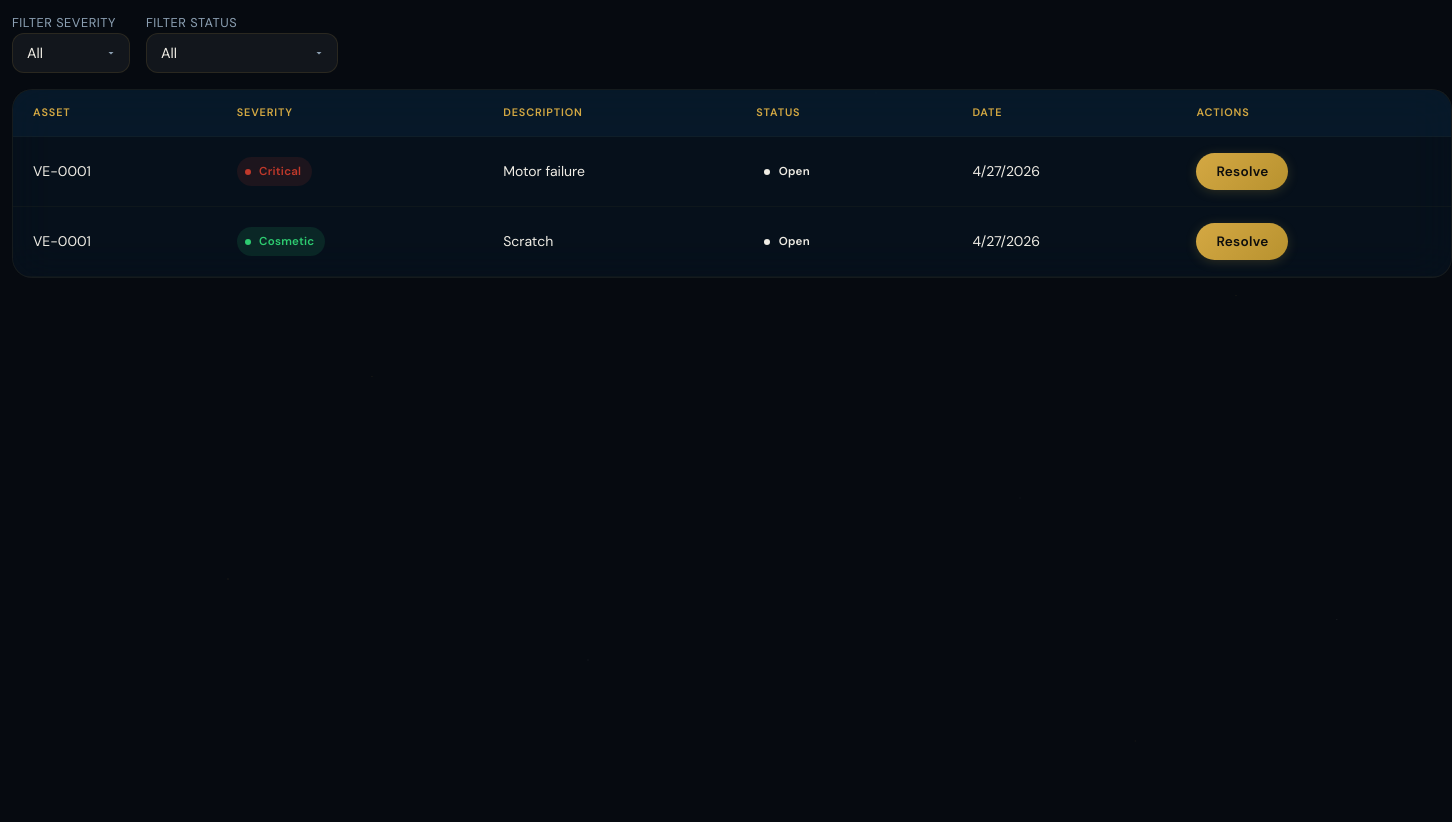
Scenario: IncidentQueue › filters by severity
Expected: the text "Scratch" is shown, x1=483 y1=207 x2=736 y2=277
Select "Critical" in the dropdown labelled "Filter Severity" at point(71, 53), box x1=12 y1=33 x2=130 y2=73
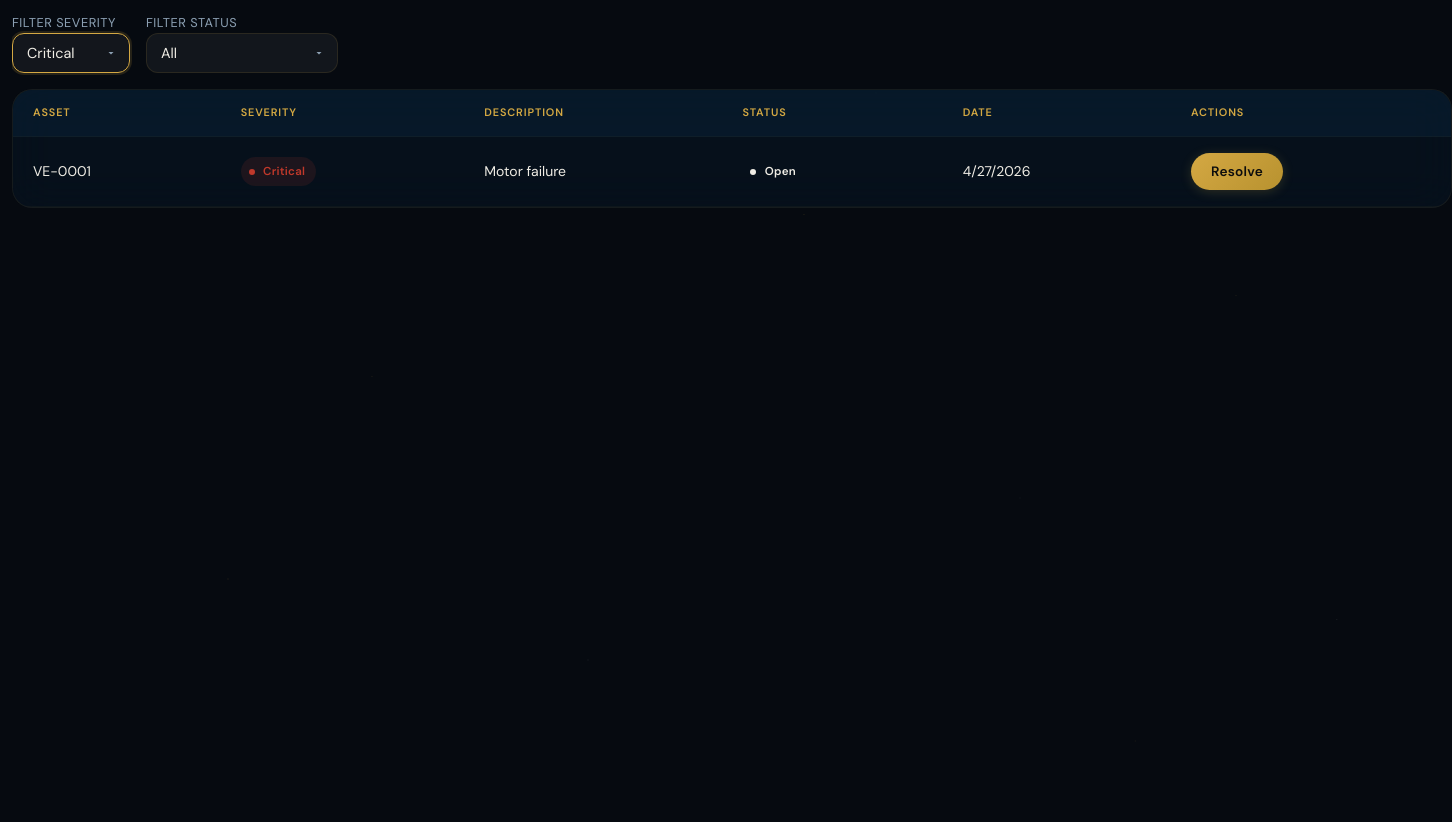
Expected: the text "Motor failure" is shown, x1=464 y1=137 x2=722 y2=207
Expected: the text "Scratch" is gone
